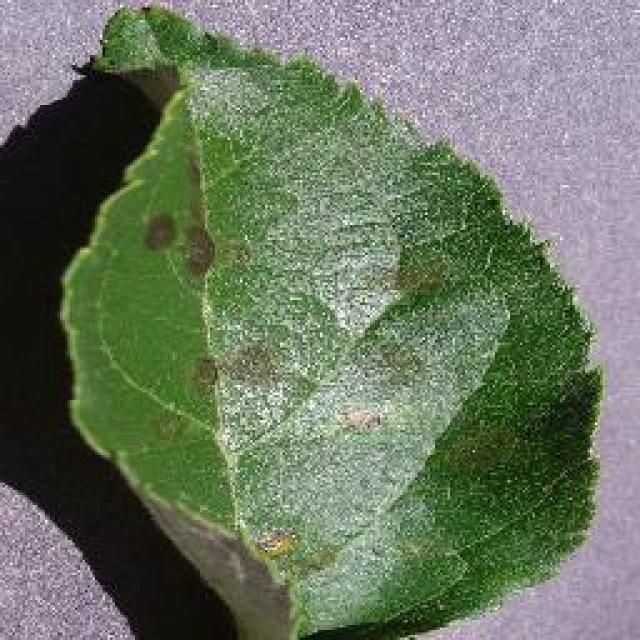apple scab disease: (55, 0, 605, 638)
